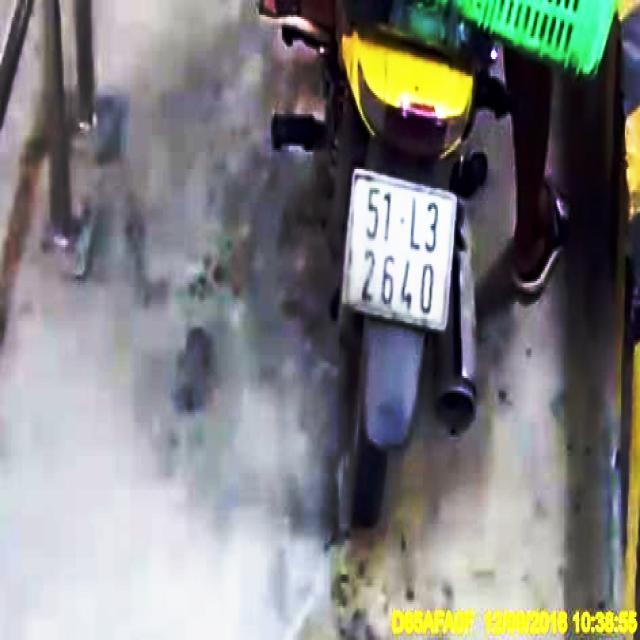license_plate: (341, 172, 458, 335)
